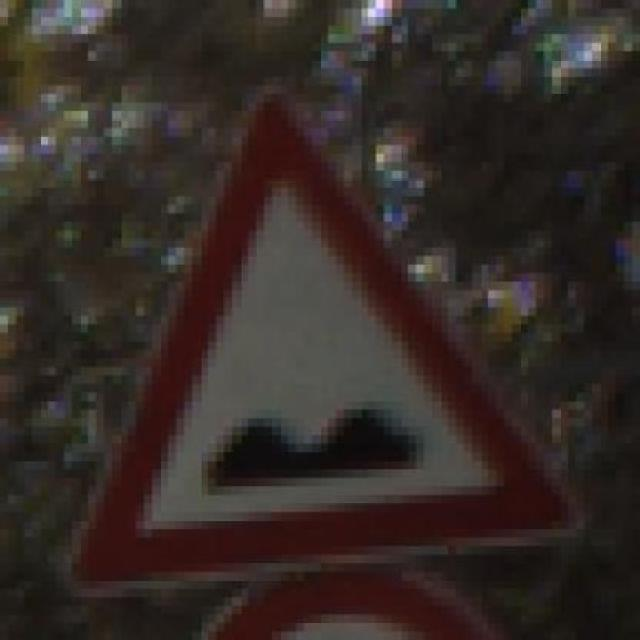Uneven Road: (64, 85, 601, 589)
